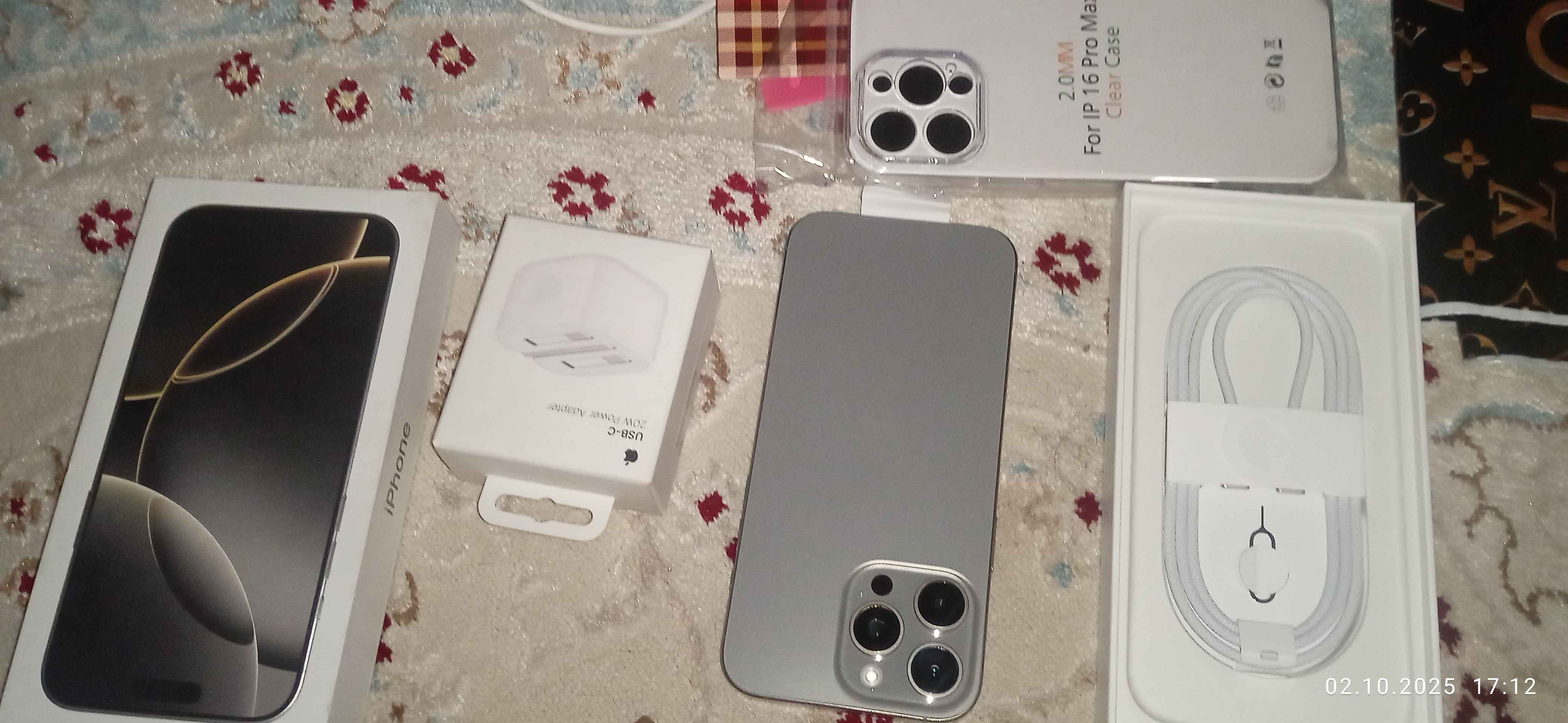phone: (36, 196, 403, 713), (718, 204, 1021, 715), (844, 0, 1356, 183)
